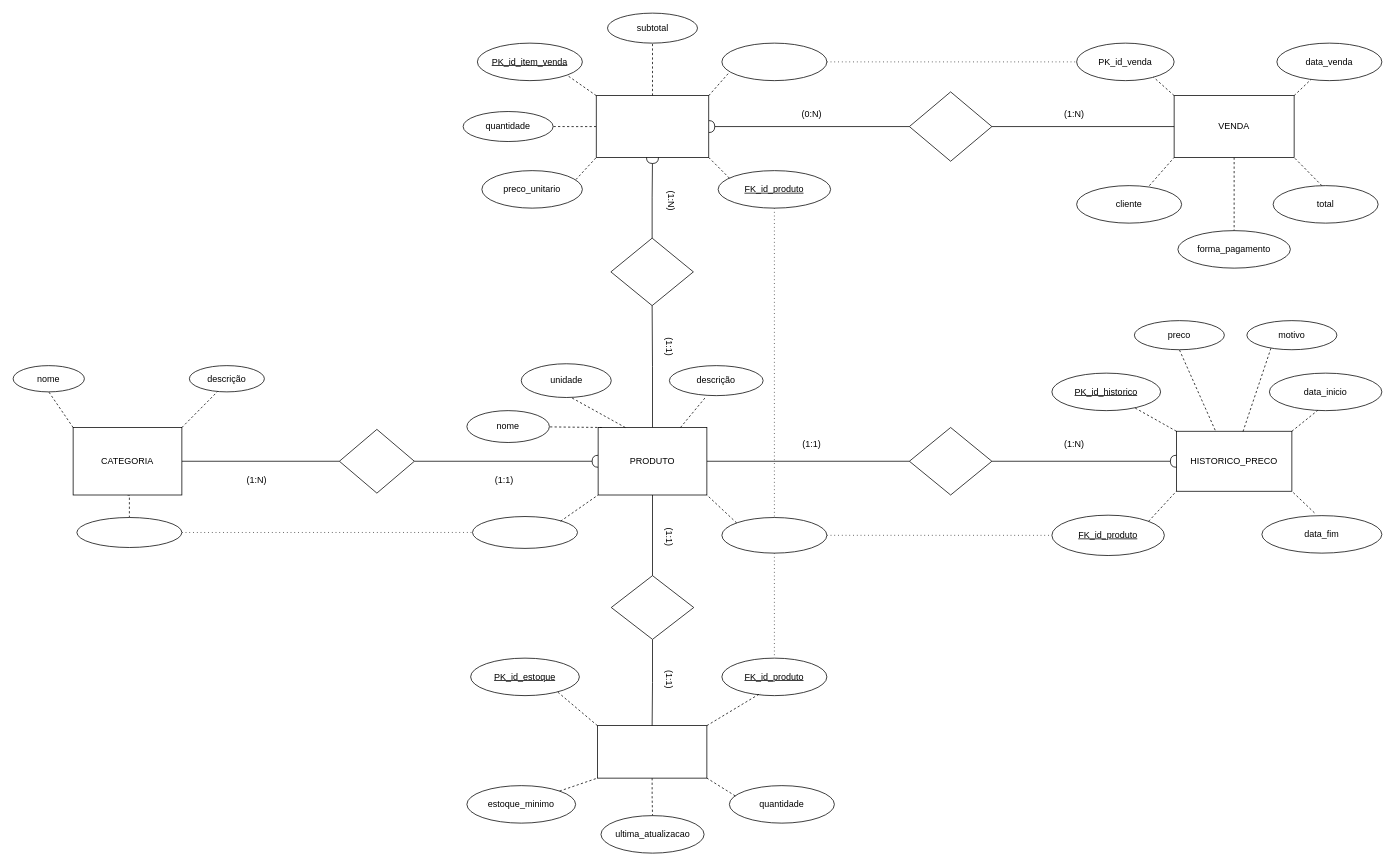
This 1395x866 diagram has some shape labels left out. The centre of each missing label's shape, as x and y in pixels:
ESTOQUE: the point at 652,751
faz parte: the point at 950,126
FK id_categoria: the point at 525,532
FK_id_venda: the point at 774,61
gera: the point at 950,461
ITEM_VENDA: the point at 652,126
pertence: the point at 376,461
PK id_categoria: the point at 129,532
PK id_produto: the point at 774,535
possui: the point at 652,607
se torna: the point at 651,271
